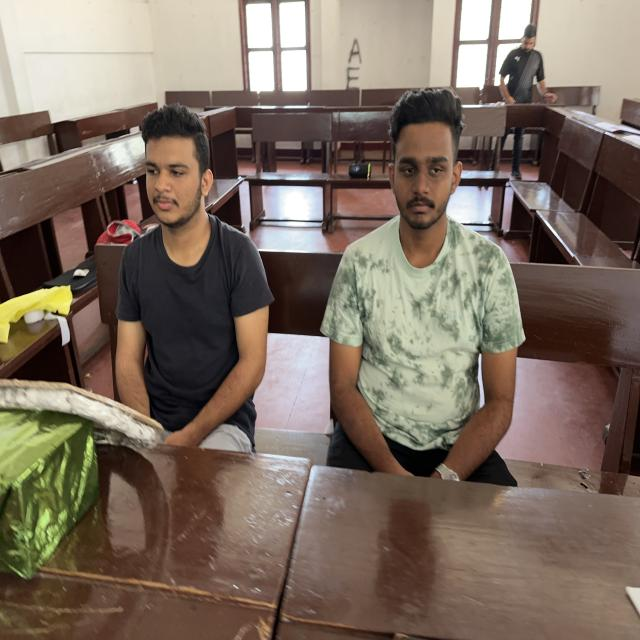Helmet: (338, 222, 525, 496), (113, 225, 266, 466)
